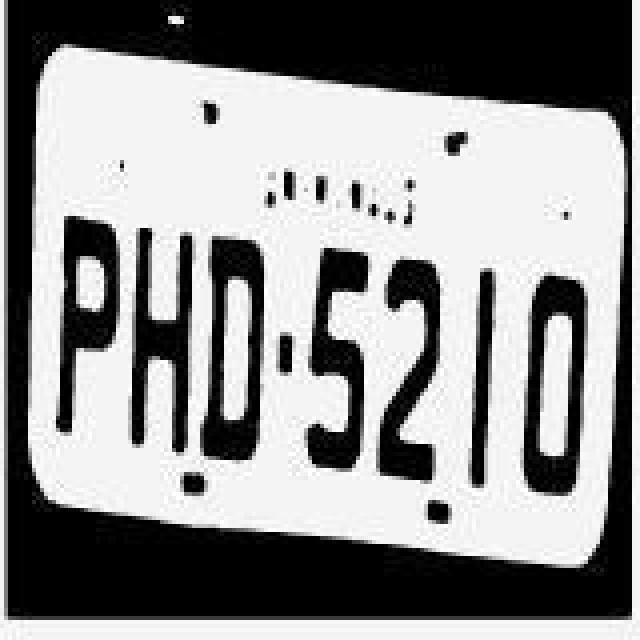1: (454, 254, 506, 506)
2: (374, 248, 450, 504)
5: (296, 238, 376, 498)
D: (194, 222, 270, 482)
H: (124, 212, 204, 476)
O: (520, 256, 600, 512)
P: (48, 198, 128, 474)
